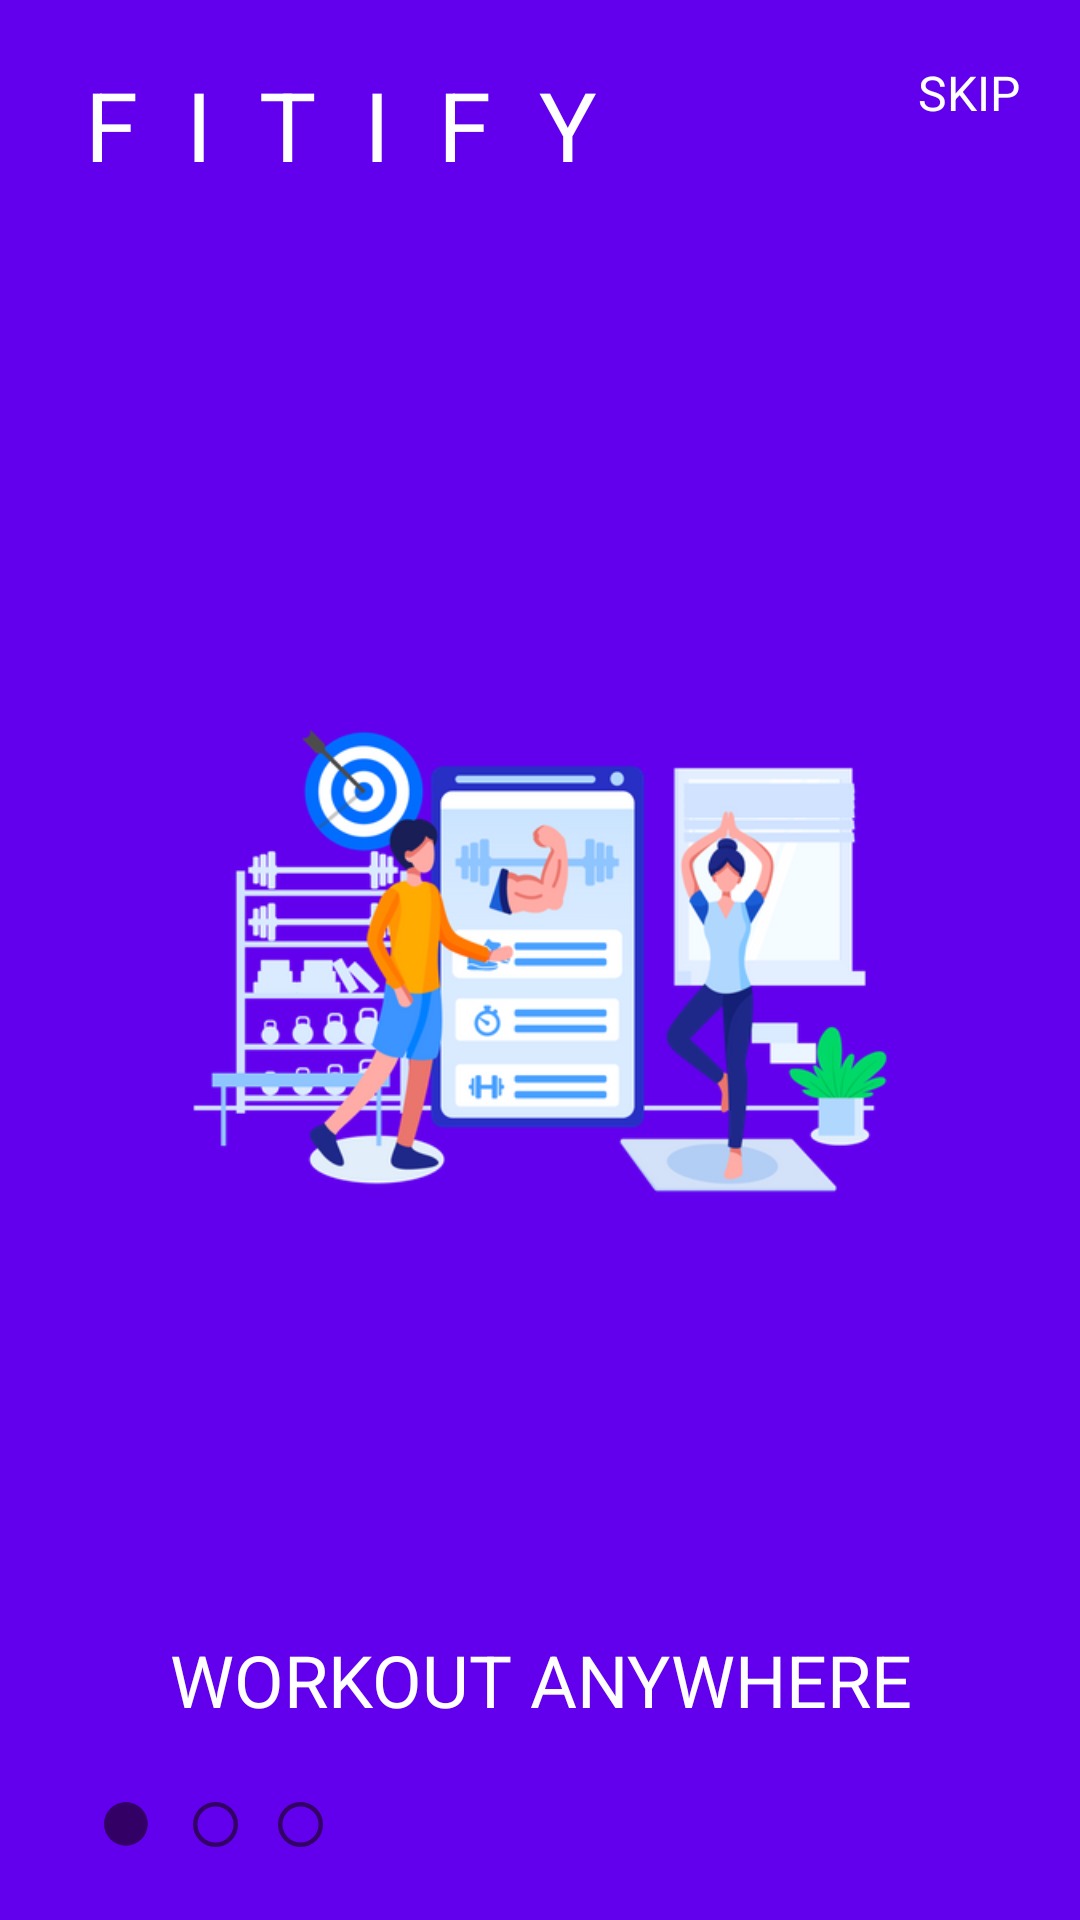

Icon bounding boxes for this 1080w x 1920h phone screenshot, format (x1, y1, x2, y2):
circle border: (193, 1802, 238, 1847), (278, 1802, 323, 1847)
